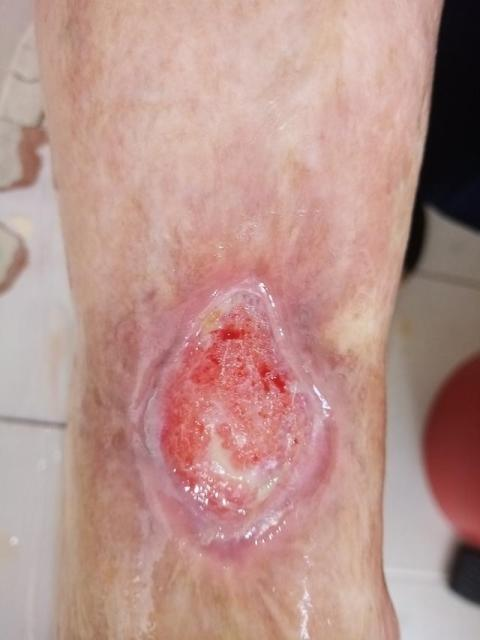wound: (130, 275, 337, 567)
